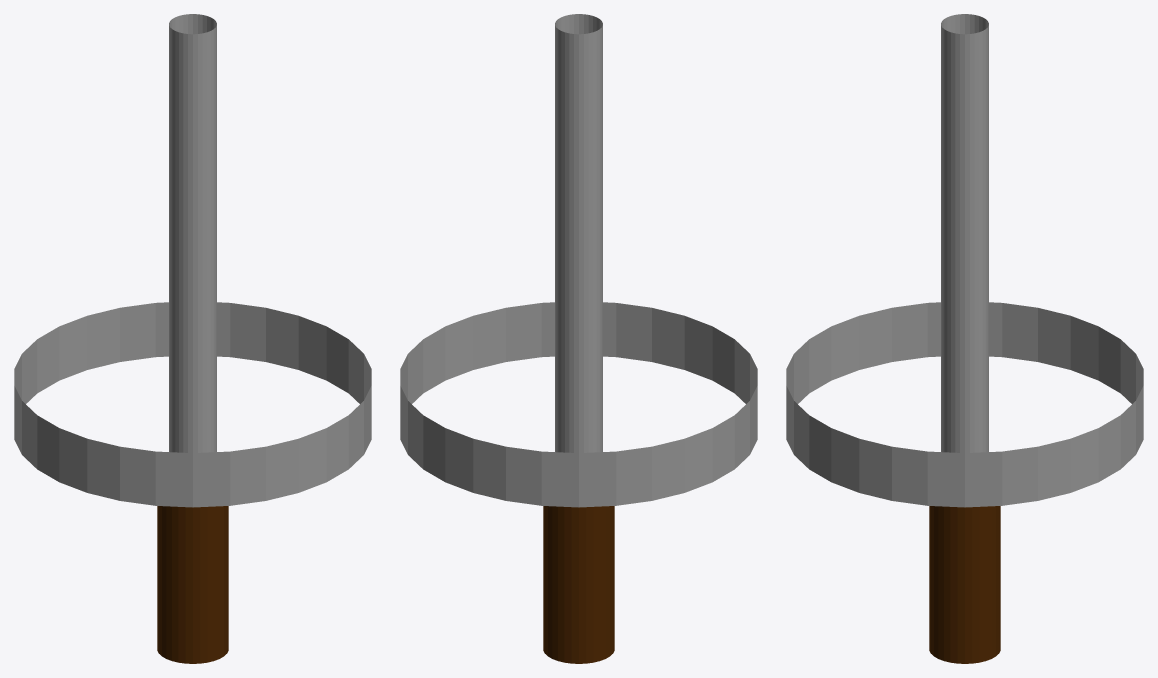
File: sword.obj
3 renders of one model, left to right at view 1: azimuth 30°, elevation 25°; view 2: azimuth 150°, elevation 25°; view 3: azimuth 270°, elevation 25°, orthographic.
Size of the model in its own units: 3 by 5.75 by 2.98.
